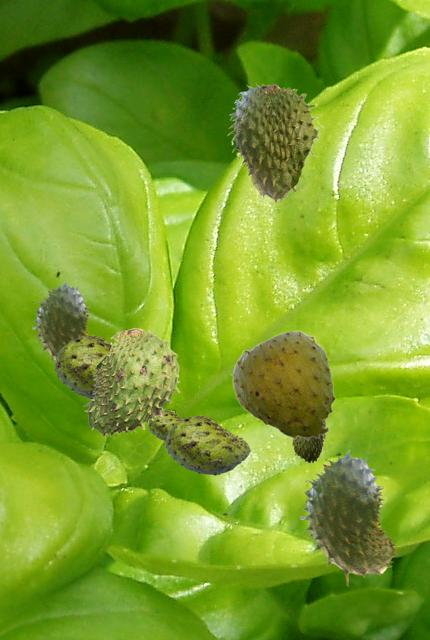guyabano: (300, 450, 396, 585), (230, 330, 335, 440), (227, 83, 323, 202), (83, 328, 179, 436), (165, 415, 249, 474), (32, 281, 91, 362), (54, 335, 110, 398), (291, 420, 326, 462), (148, 410, 183, 441)
